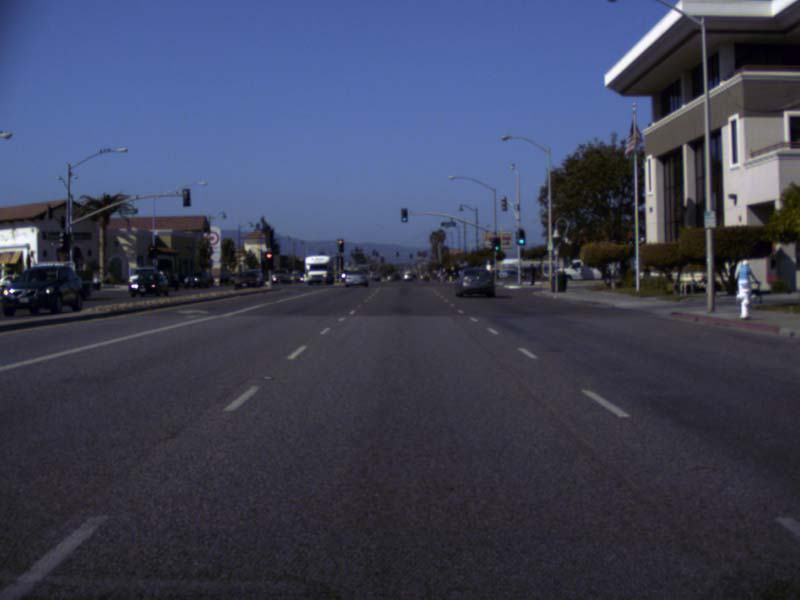Green: (400, 209, 407, 222), (518, 229, 524, 244), (493, 237, 499, 251)
Red: (264, 252, 273, 268), (337, 239, 342, 251), (148, 246, 153, 258)
